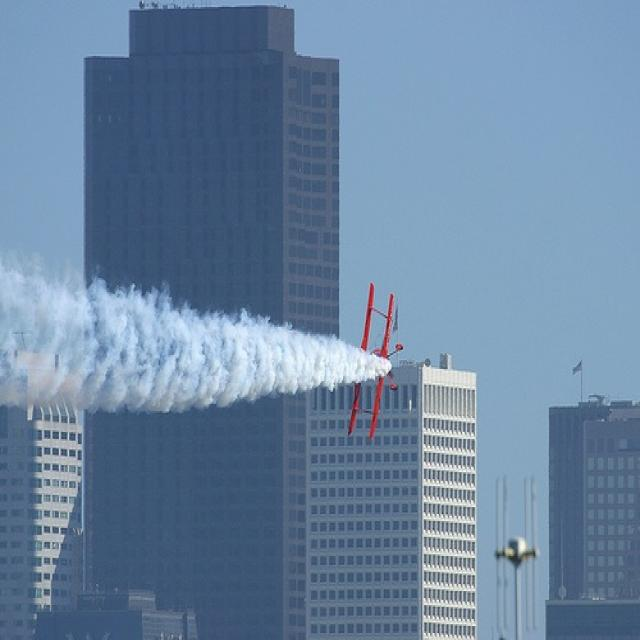aeroplane: (349, 285, 407, 437)
